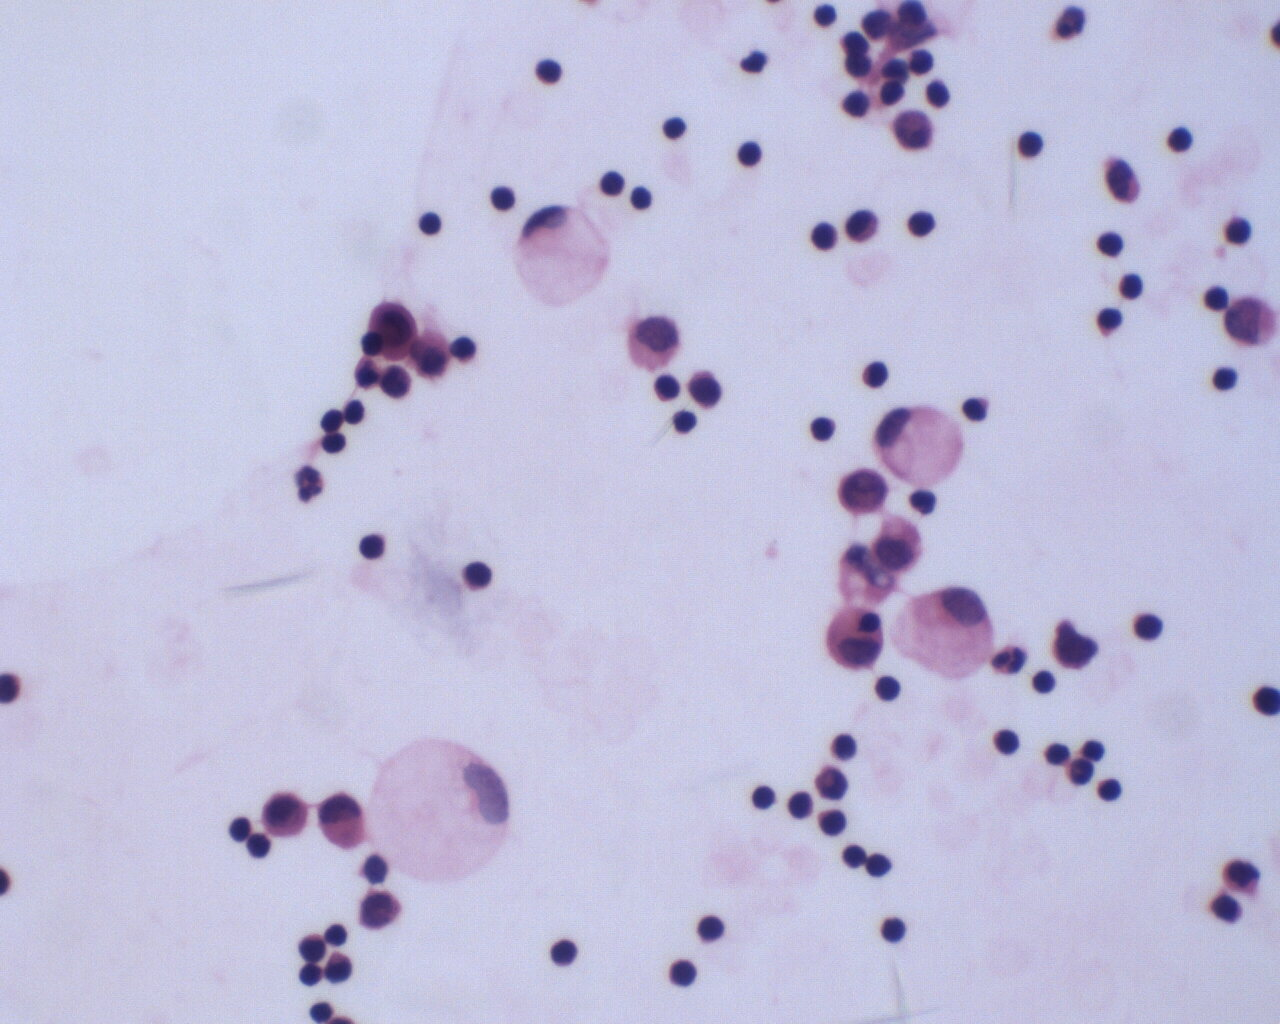ab: (835, 467, 894, 520), (1224, 296, 1280, 351), (261, 784, 309, 844)
histo: (371, 738, 514, 891), (885, 582, 997, 689), (511, 201, 616, 311), (868, 399, 968, 482)
lymph: (857, 355, 898, 397), (1220, 207, 1256, 254), (1091, 297, 1128, 341), (1090, 226, 1128, 266), (354, 525, 390, 567), (530, 52, 567, 92), (459, 557, 496, 596), (901, 206, 939, 242), (802, 217, 843, 252), (805, 412, 842, 448), (646, 369, 684, 404), (667, 952, 701, 992), (1163, 120, 1200, 157), (815, 802, 851, 840), (486, 180, 521, 217), (1212, 358, 1246, 398), (1128, 605, 1163, 643), (990, 722, 1024, 759), (1117, 266, 1149, 305), (419, 205, 451, 242), (876, 913, 911, 947), (922, 76, 955, 112), (668, 405, 705, 437), (627, 181, 657, 219), (222, 808, 251, 847), (1015, 127, 1047, 163), (696, 907, 726, 945), (662, 110, 695, 144), (546, 933, 577, 970), (808, 1, 841, 33), (1096, 773, 1127, 807), (736, 137, 769, 167), (1030, 664, 1060, 697), (747, 782, 776, 811), (830, 731, 860, 760)
meso: (820, 601, 890, 671), (360, 299, 421, 362)
neutro: (290, 462, 329, 506), (990, 639, 1029, 677), (1051, 3, 1089, 43)
